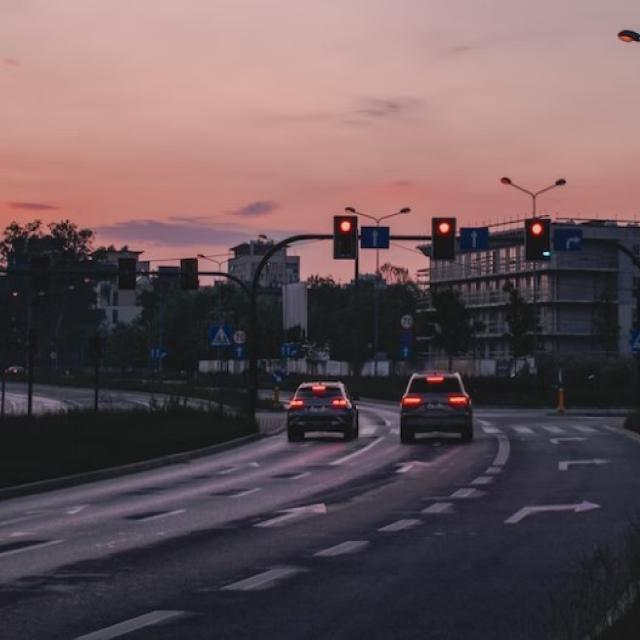car: (397, 370, 474, 443), (286, 378, 360, 446)
